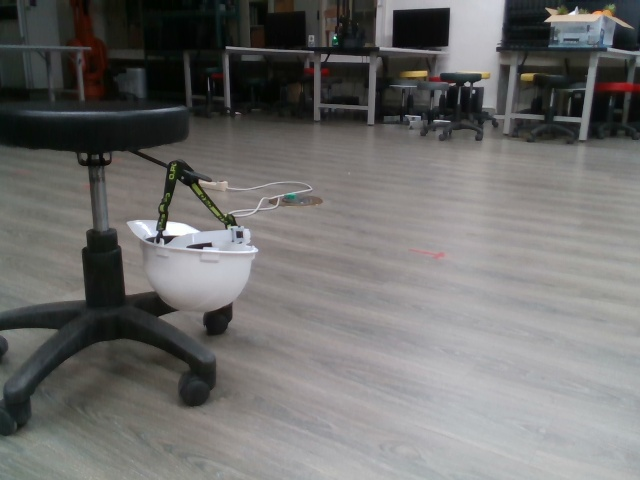helmet: (121, 212, 260, 309)
